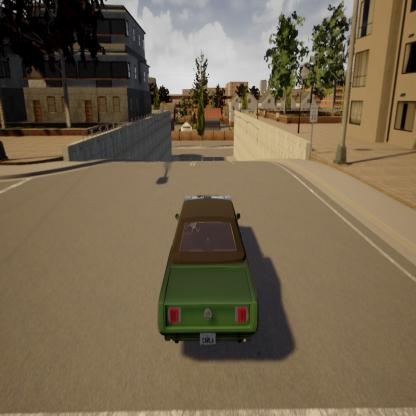Cars: (146, 190, 266, 362)
